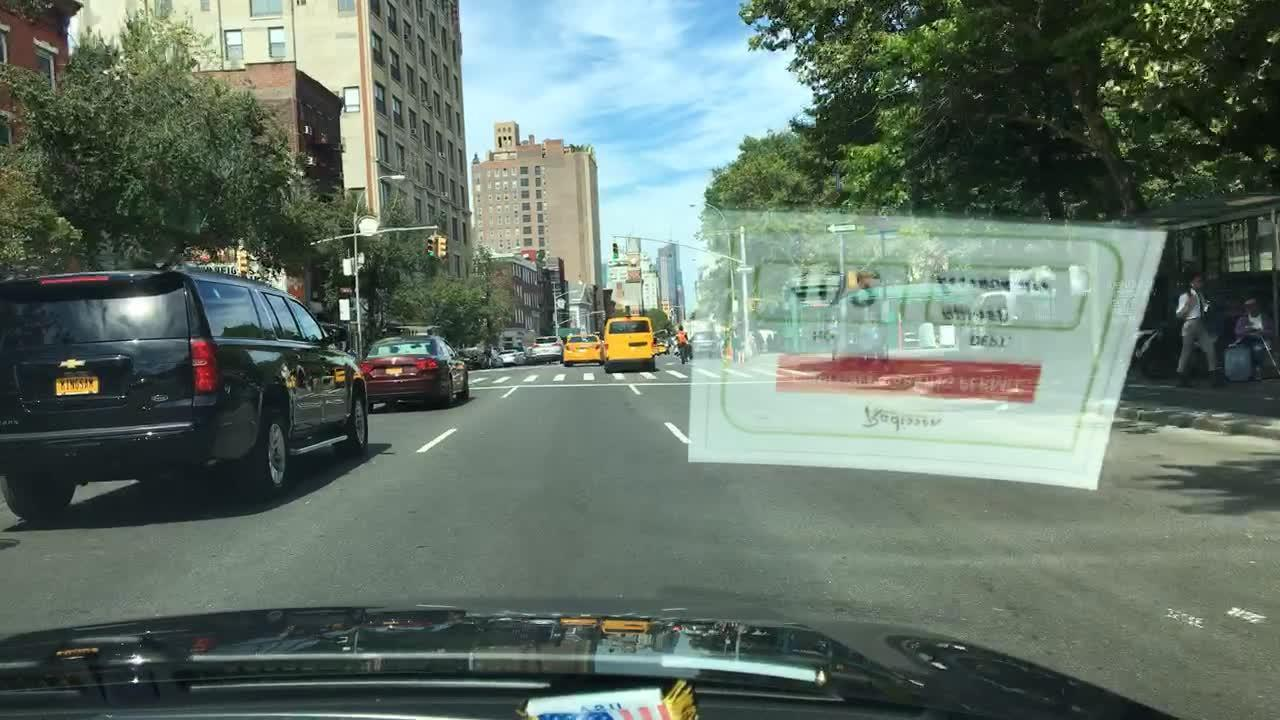chevrolet: (47, 350, 96, 375)
